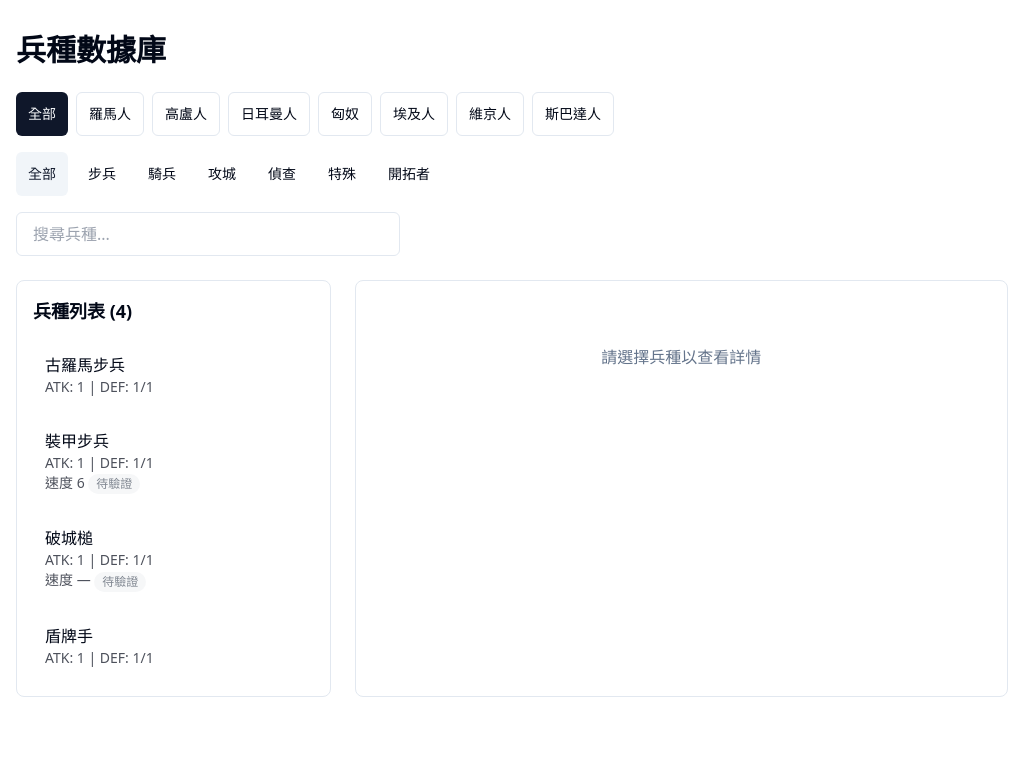
TroopsPage speed 待驗證 chips (P0-15) › detail, official_pending: keeps the number, shows chip and the source line below the stats
This screenshot has width=1024, height=765.
Click the text "裝甲步兵".
click(77, 441)  # box [45, 430, 109, 452]
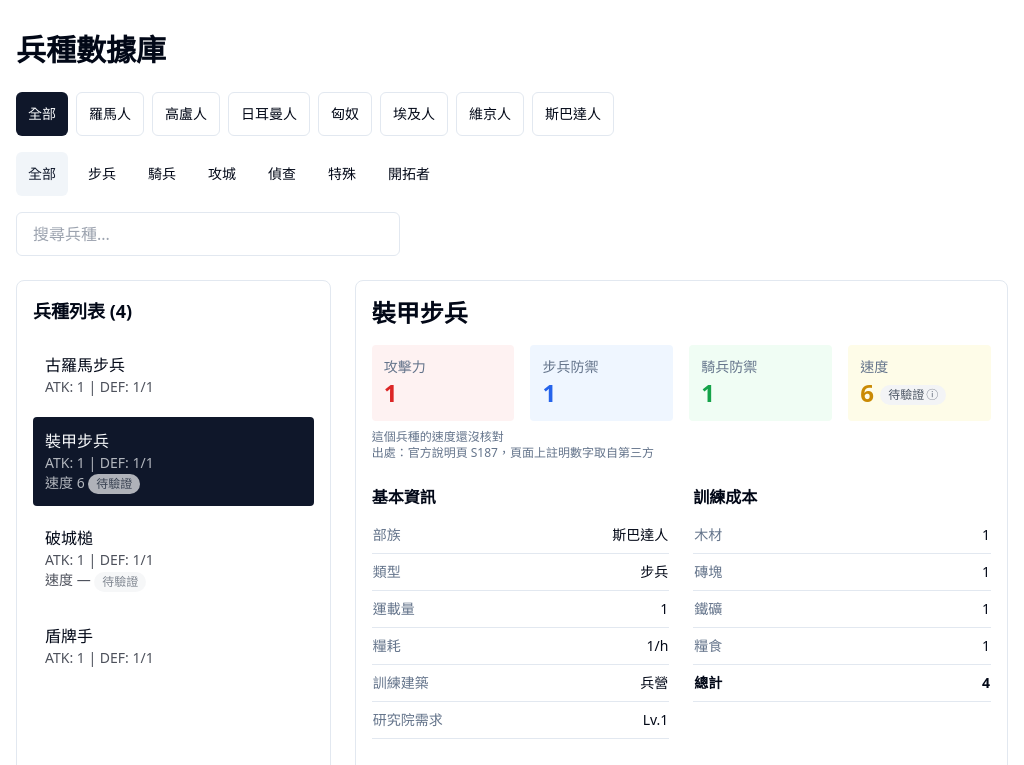
Result: the element with test id "troop-speed" shows "6" at [860, 376, 874, 409]
Result: the number of buttons with test id "pending-verify-chip" is 1 at [880, 386, 946, 406]
